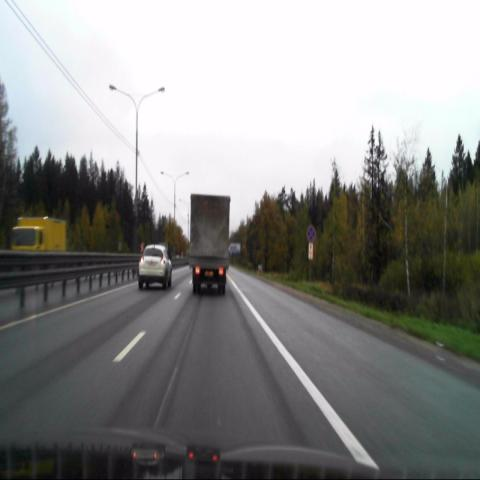3_27: (306, 225, 316, 242)
